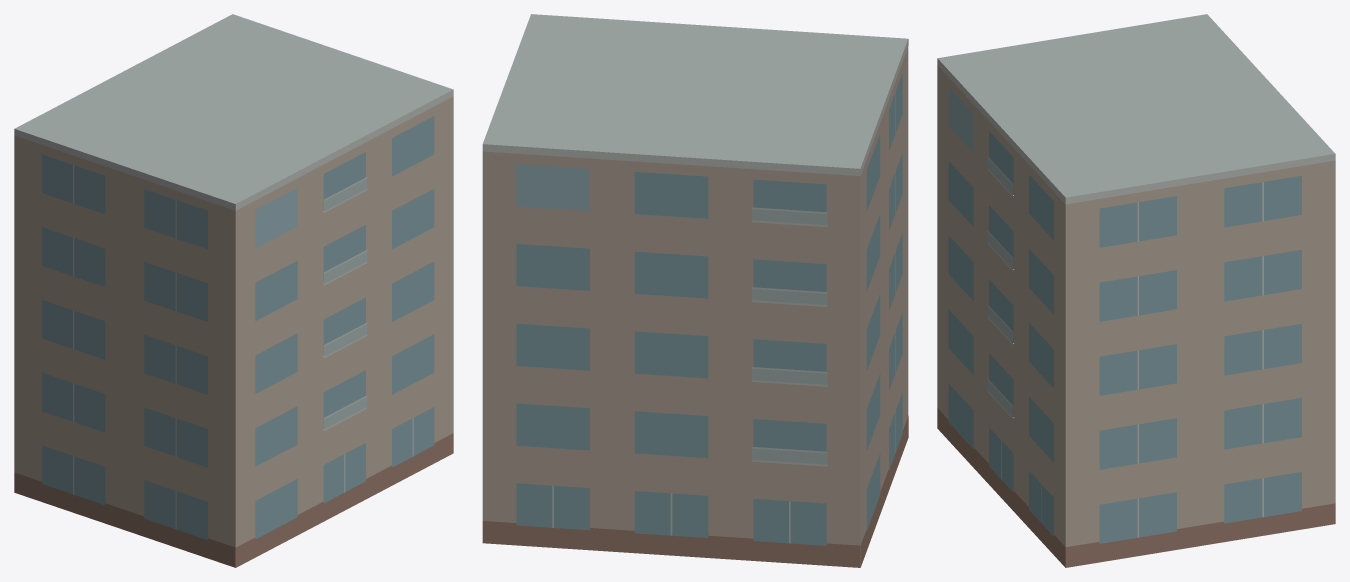
File: survey-upis-32863082.glb
The picture shows the model from 3 angles, left to right: view 1: azimuth 30°, elevation 25°; view 2: azimuth 150°, elevation 25°; view 3: azimuth 270°, elevation 25°; orthographic projection. The views are drawn at different scales.
Parts seen in each view (by area): view 1: survey-upis-32863082.tmp; view 2: survey-upis-32863082.tmp; view 3: survey-upis-32863082.tmp.
Boxes of the visible parts, x1=… form: survey-upis-32863082.tmp: x1=14, y1=14, x2=453, y2=567; survey-upis-32863082.tmp: x1=482, y1=14, x2=908, y2=567; survey-upis-32863082.tmp: x1=937, y1=14, x2=1335, y2=567.
Bounding box in the file's own units: 14.22 × 13.35 × 13.02.
